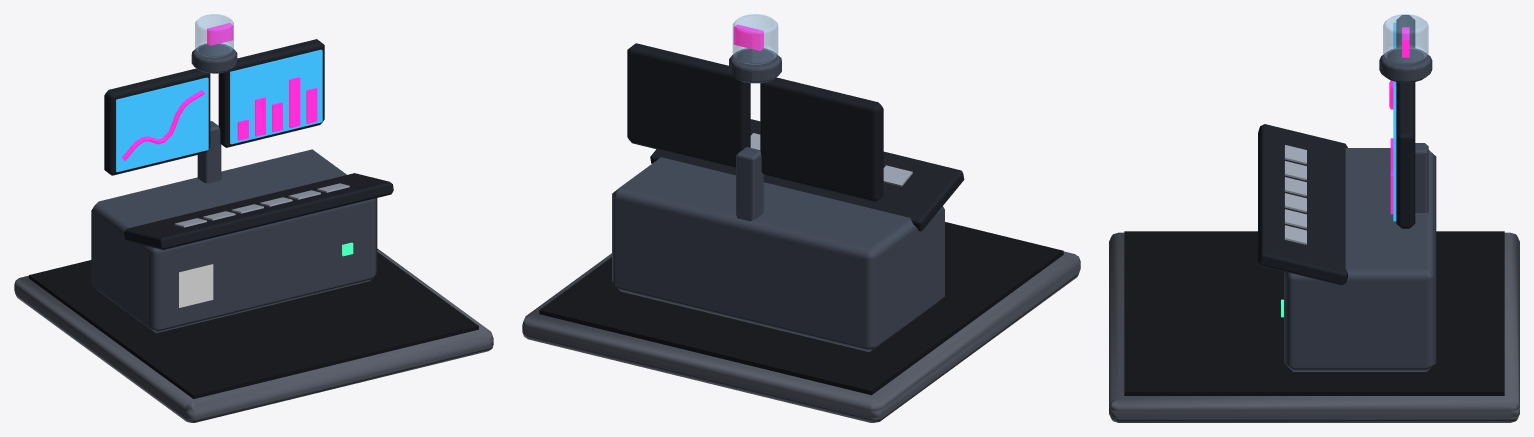
File: cloudwatch.glb
3 renders of one model, left to right at view 1: azimuth 30°, elevation 25°; view 2: azimuth 150°, elevation 25°; view 3: azimuth 270°, elevation 25°, orthographic. The views are drawn at different scales.
Visible parts, largest first — view 1: body.steel, body.rubber, body.concrete, body.bezel, body.screen, body.accent_glow, body.glass, body.badge, body.steel_light, spin_beacon.accent_glow; view 2: body.steel, body.bezel, body.rubber, body.concrete, body.glass, spin_beacon.accent_glow, body.steel_light; view 3: body.rubber, body.steel, body.concrete, body.bezel, body.steel_light, body.glass, body.screen, body.accent_glow.
Boxes of the visible parts, x1,y1,x2,y2 form: body.steel: (91,43,377,333); body.rubber: (29,252,478,398); body.concrete: (14,248,493,422); body.bezel: (104,39,393,249); body.screen: (116,49,322,172); body.accent_glow: (122,77,317,160); body.glass: (195,14,233,57); body.badge: (179,264,213,307); body.steel_light: (174,183,349,227); spin_beacon.accent_glow: (207,23,233,45); body.steel: (612,48,944,351); body.bezel: (627,43,964,231); body.rubber: (539,222,1063,395); body.concrete: (522,251,1080,422); body.glass: (732,14,778,64); spin_beacon.accent_glow: (733,24,763,50); body.steel_light: (750,133,912,186); body.rubber: (1124,231,1504,395); body.steel: (1284,47,1436,371); body.concrete: (1109,232,1519,422); body.bezel: (1258,15,1415,285); body.steel_light: (1284,145,1306,244); body.glass: (1383,14,1428,63); body.screen: (1393,22,1396,221); body.accent_glow: (1389,80,1393,214).
Size of the model in its own units: 1.08 by 0.922 by 1.08.
